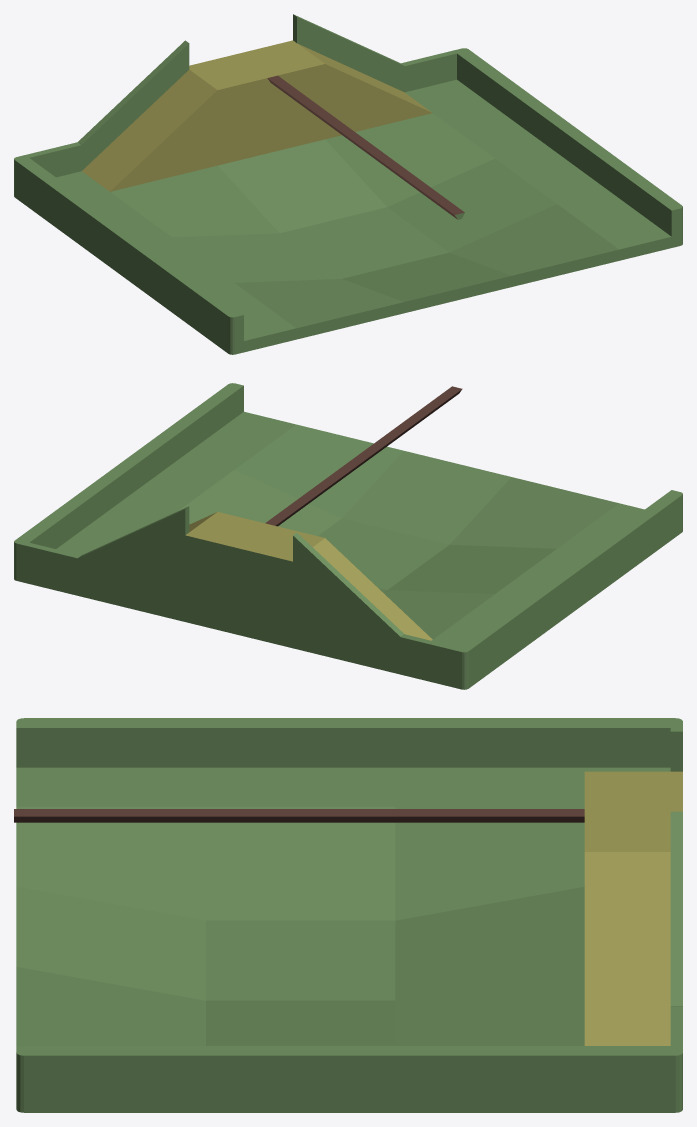
File: Pit.fbx
3 views of the same model, one above another, from view 1: azimuth 30°, elevation 25°; view 2: azimuth 150°, elevation 25°; view 3: azimuth 270°, elevation 25° (orthographic). The views are drawn at different scales.
Parts seen in each view (by area): view 1: Cube.009; view 2: Cube.009; view 3: Cube.009.
Boxes of the visible parts, x1,y1,x2,y2 form: Cube.009: (14, 14, 682, 354); Cube.009: (14, 383, 682, 689); Cube.009: (14, 718, 682, 1112).
Size of the model in its own units: 3232 by 2706 by 885.
